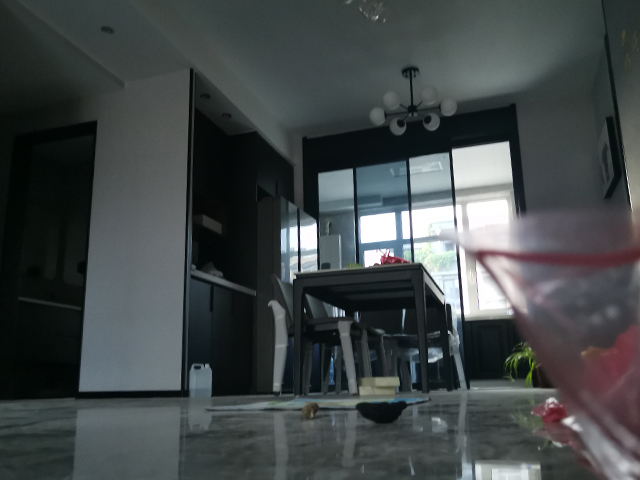cabinet: (184, 270, 260, 395), (463, 314, 529, 385)
carpet: (201, 394, 432, 414)
feces: (353, 400, 411, 426), (298, 402, 321, 421)
stool: (266, 274, 375, 397), (332, 305, 459, 398)
table: (290, 261, 457, 395)
